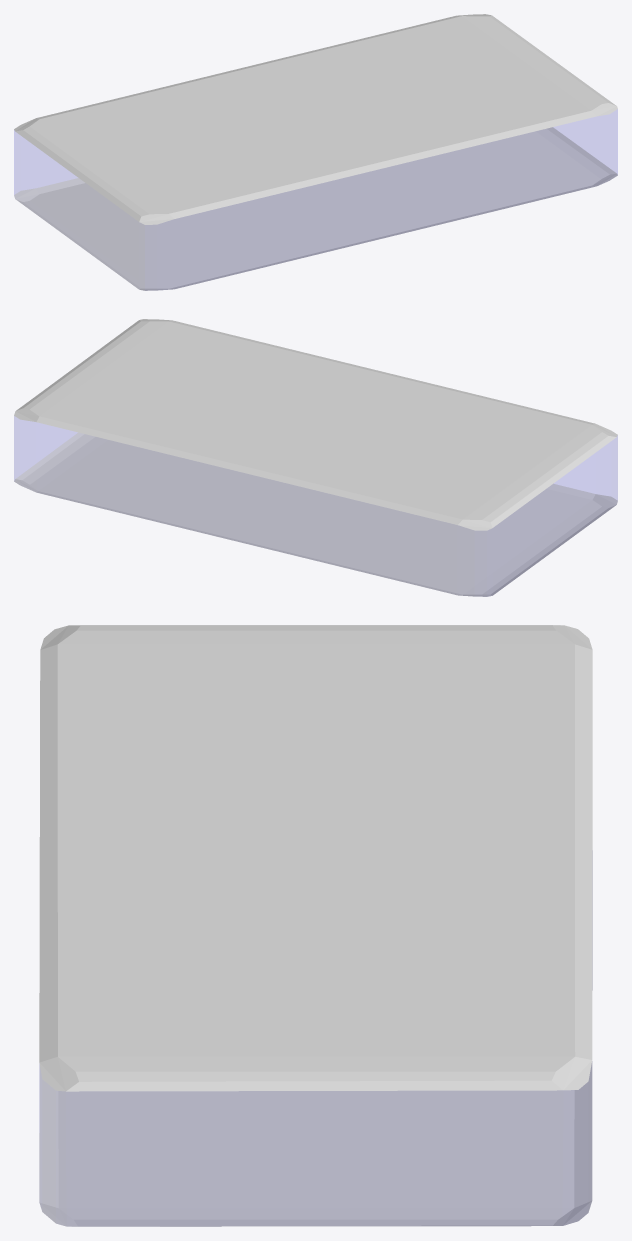
File: pillow_side2.fbx
The picture shows the model from 3 angles, top to bottom: view 1: azimuth 30°, elevation 25°; view 2: azimuth 150°, elevation 25°; view 3: azimuth 270°, elevation 25°; orthographic projection. The views are drawn at different scales.
Parts seen in each view (by area): view 1: Cube; view 2: Cube; view 3: Cube.
Part boxes in pixels (<box>): Cube: <box>14,14,617,290</box>; Cube: <box>14,319,617,596</box>; Cube: <box>39,625,592,1226</box>.
Bounding box in the file's own units: 393 × 59.07 × 197.
